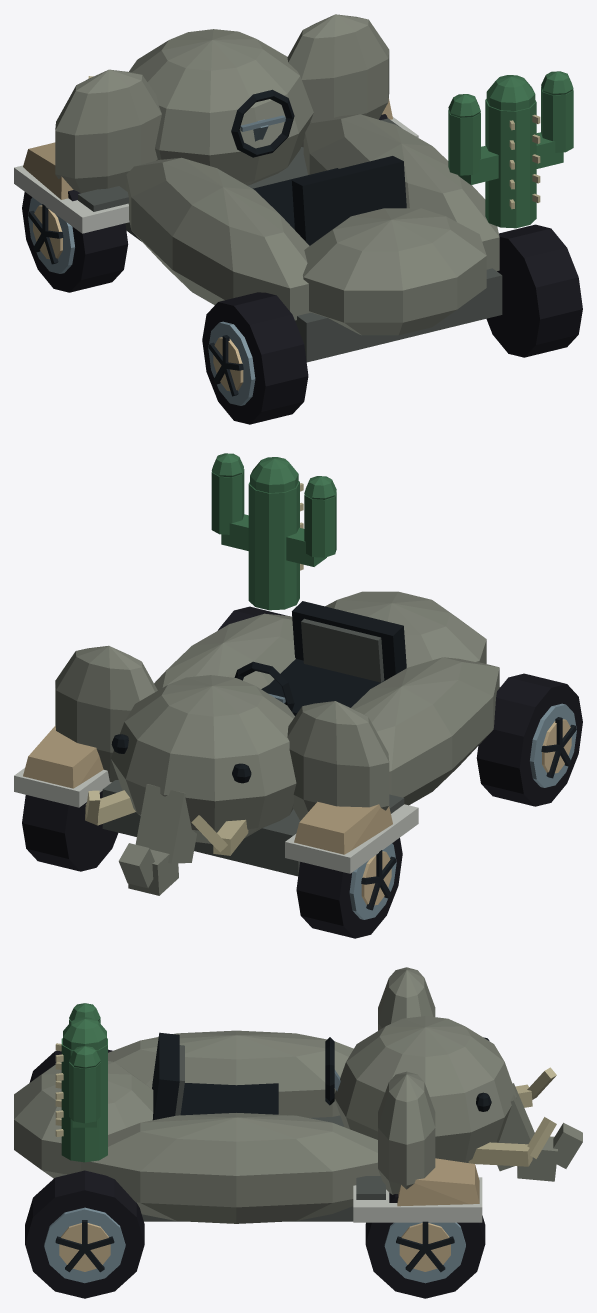
Rendered from kart.glb.
3 renders of one model, top to bottom at view 1: azimuth 30°, elevation 25°; view 2: azimuth 150°, elevation 25°; view 3: azimuth 270°, elevation 25°, orthographic. The views are drawn at different scales.
Visible parts, largest first — view 1: identity-beast-elephant-broad-ears-curled-trunk-and-tusks, identity-beast-motif-cactus, wheel-rear-left, wheel-rear-right, identity-beast-driver-cockpit, wheel-front-left, identity-beast-motif-slippers; view 2: identity-beast-elephant-broad-ears-curled-trunk-and-tusks, identity-beast-motif-cactus, identity-beast-motif-slippers, wheel-rear-left, identity-beast-driver-cockpit, wheel-front-left, wheel-front-right; view 3: identity-beast-elephant-broad-ears-curled-trunk-and-tusks, wheel-rear-right, wheel-front-right, identity-beast-motif-cactus, identity-beast-motif-slippers, identity-beast-driver-cockpit.
Boxes of the visible parts, x1,y1,x2,y2 form: identity-beast-elephant-broad-ears-curled-trunk-and-tusks: (55, 14, 502, 362); identity-beast-motif-cactus: (448, 71, 573, 228); wheel-rear-left: (202, 292, 308, 424); wheel-rear-right: (486, 224, 582, 357); identity-beast-driver-cockpit: (231, 89, 406, 245); wheel-front-left: (22, 190, 128, 292); identity-beast-motif-slippers: (14, 98, 418, 233); identity-beast-elephant-broad-ears-curled-trunk-and-tusks: (55, 591, 499, 895); identity-beast-motif-cactus: (211, 453, 336, 610); identity-beast-motif-slippers: (14, 725, 418, 873); wheel-rear-left: (476, 673, 582, 806); identity-beast-driver-cockpit: (234, 601, 406, 715); wheel-front-left: (296, 838, 402, 938); wheel-front-right: (22, 791, 118, 871); identity-beast-elephant-broad-ears-curled-trunk-and-tusks: (14, 967, 582, 1223); wheel-rear-right: (25, 1170, 144, 1298); wheel-front-right: (365, 1193, 485, 1298); identity-beast-motif-cactus: (55, 1003, 107, 1162); identity-beast-motif-slippers: (353, 1158, 482, 1222); identity-beast-driver-cockpit: (152, 1032, 340, 1120).
Size of the model in its own units: 2.03 by 1.54 by 3.04.
